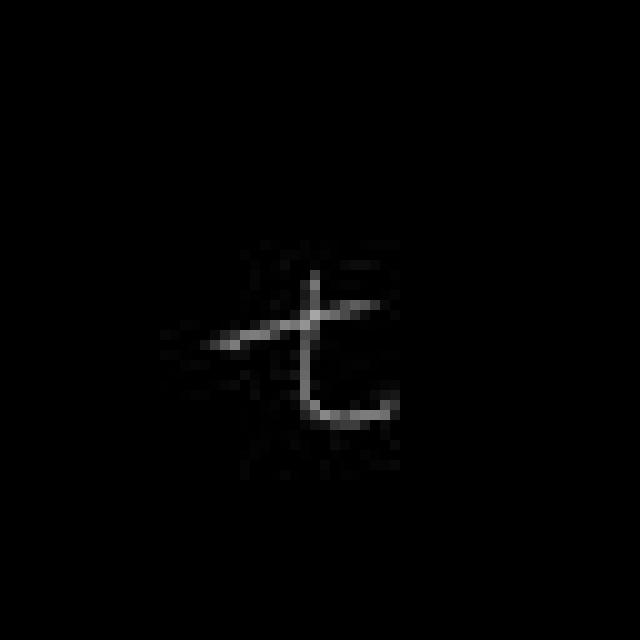7 -seven-: (210, 262, 403, 434)
